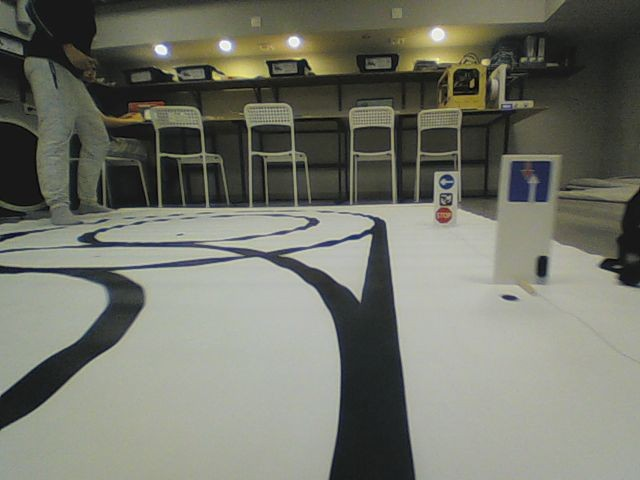Stop: (434, 206, 452, 223)
priority_movement: (507, 158, 552, 204)
